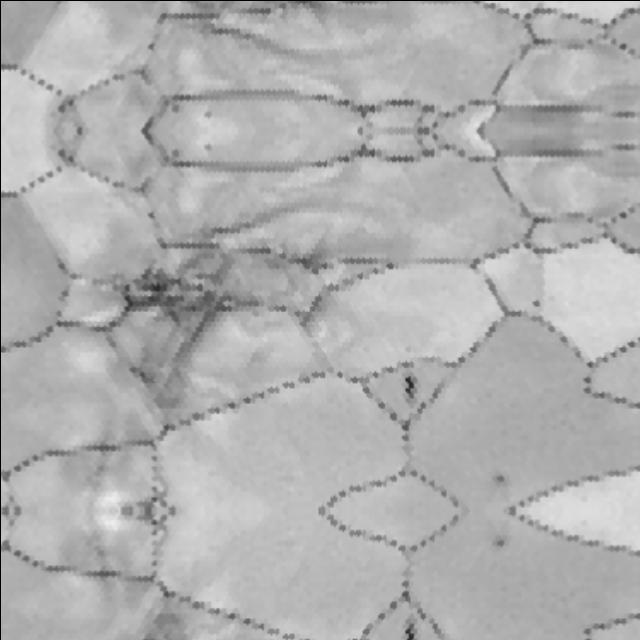good_void: (113, 224, 261, 417), (299, 250, 329, 275), (398, 371, 417, 407), (398, 615, 417, 640), (299, 0, 328, 11), (490, 472, 507, 486), (490, 536, 507, 550), (529, 297, 542, 310), (169, 148, 179, 158), (169, 103, 179, 113), (202, 141, 211, 152), (202, 109, 211, 119)
